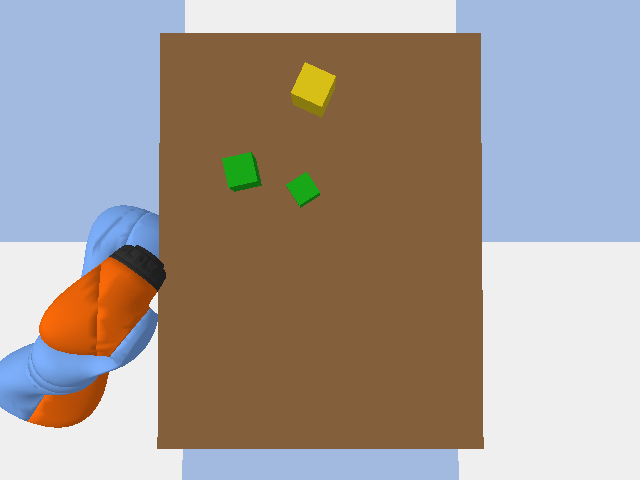green_obj: (222, 152, 261, 191), (286, 172, 319, 207)
yellow_obj: (291, 62, 335, 117)
